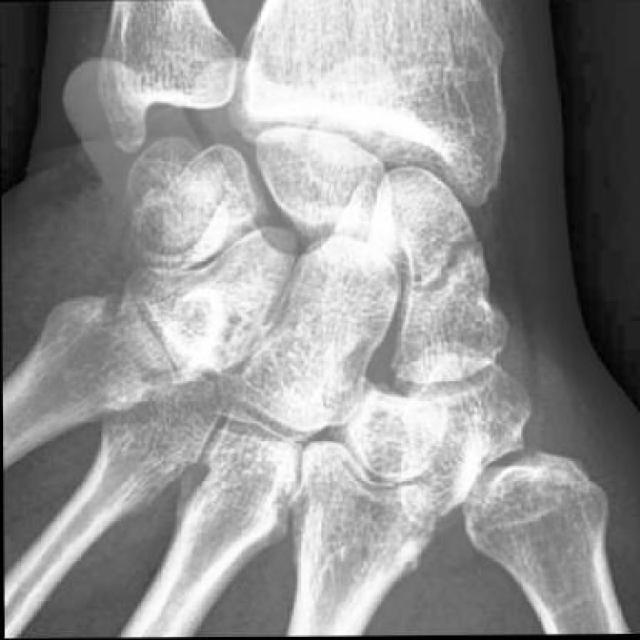Fracture: (406, 236, 489, 304)
